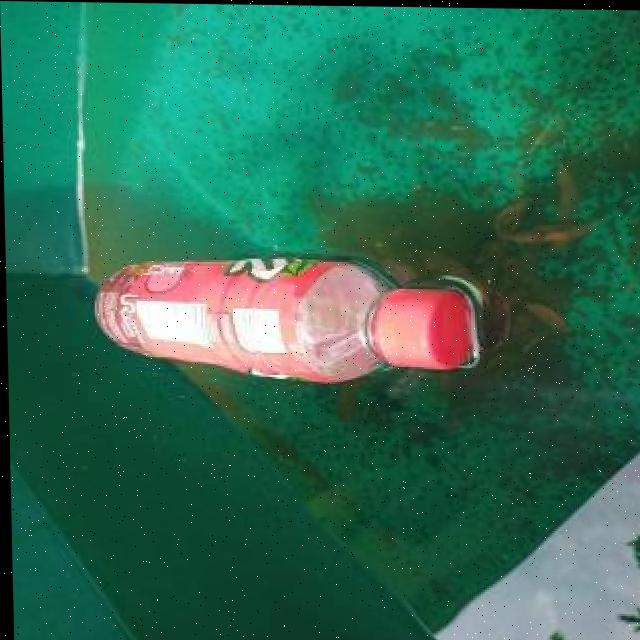bottle: (86, 251, 475, 385)
